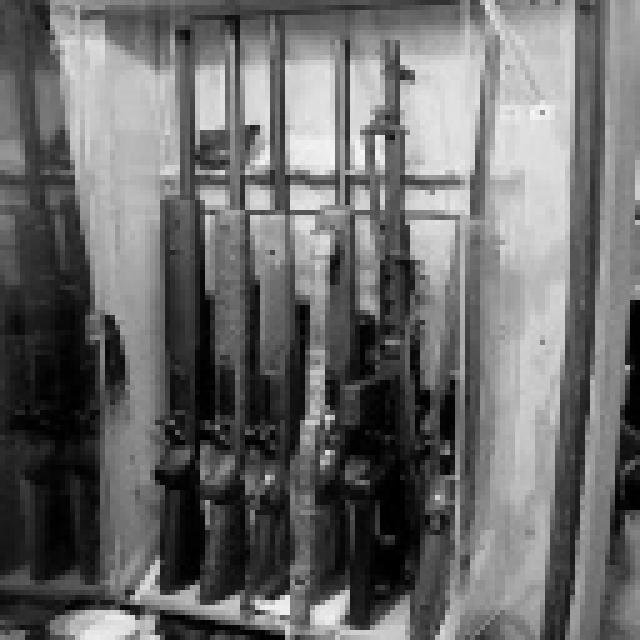Rifle: (0, 0, 143, 603), (394, 37, 516, 640), (118, 0, 227, 613), (170, 0, 265, 625), (346, 26, 442, 638), (300, 0, 385, 635), (240, 0, 312, 640)
